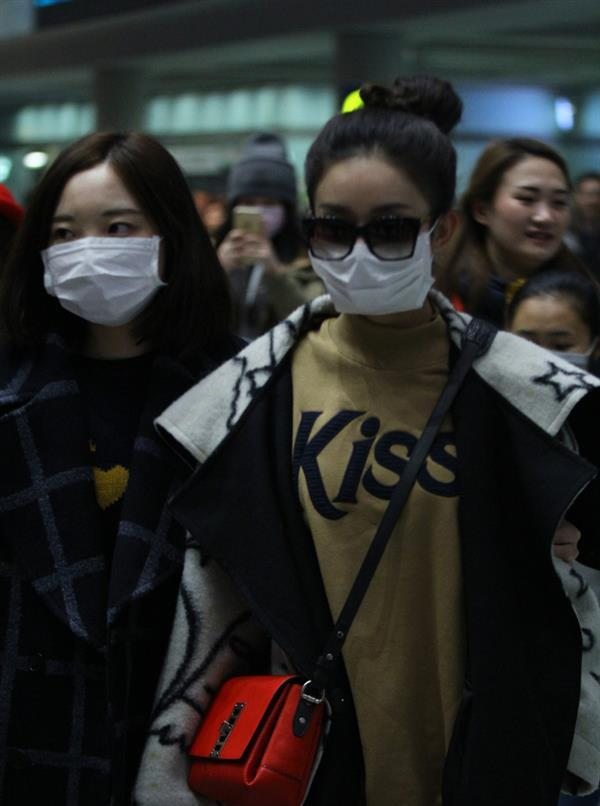NONE: (490, 185, 569, 263)
OK: (37, 198, 163, 324), (311, 203, 434, 319), (235, 193, 288, 245)
